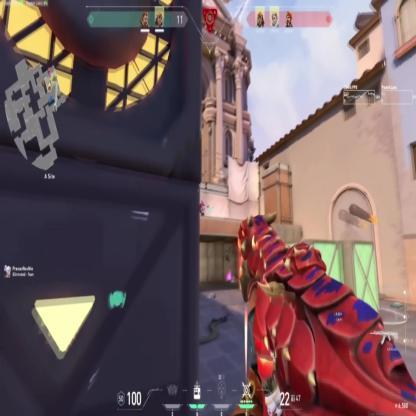enemy: (198, 201, 205, 221)
enemy_head: (201, 201, 204, 206)
